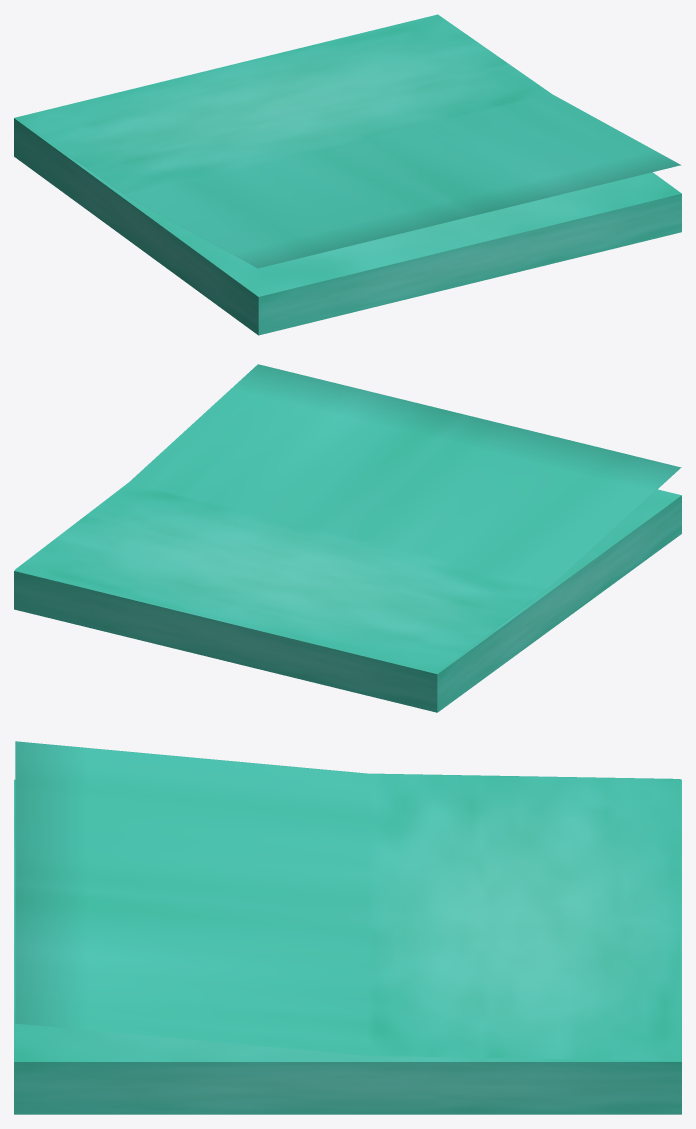
The model's file is Stickynotes_D.FBX.
The picture shows the model from 3 angles, top to bottom: view 1: azimuth 30°, elevation 25°; view 2: azimuth 150°, elevation 25°; view 3: azimuth 270°, elevation 25°; orthographic projection. The views are drawn at different scales.
Visible parts, largest first — view 1: Sticky_notes; view 2: Sticky_notes; view 3: Sticky_notes.
Part boxes in pixels (x1=…): Sticky_notes: x1=14, y1=14, x2=681, y2=335; Sticky_notes: x1=14, y1=364, x2=681, y2=712; Sticky_notes: x1=14, y1=741, x2=681, y2=1114.
Bounding box in the file's own units: 23 × 3.46 × 23.
